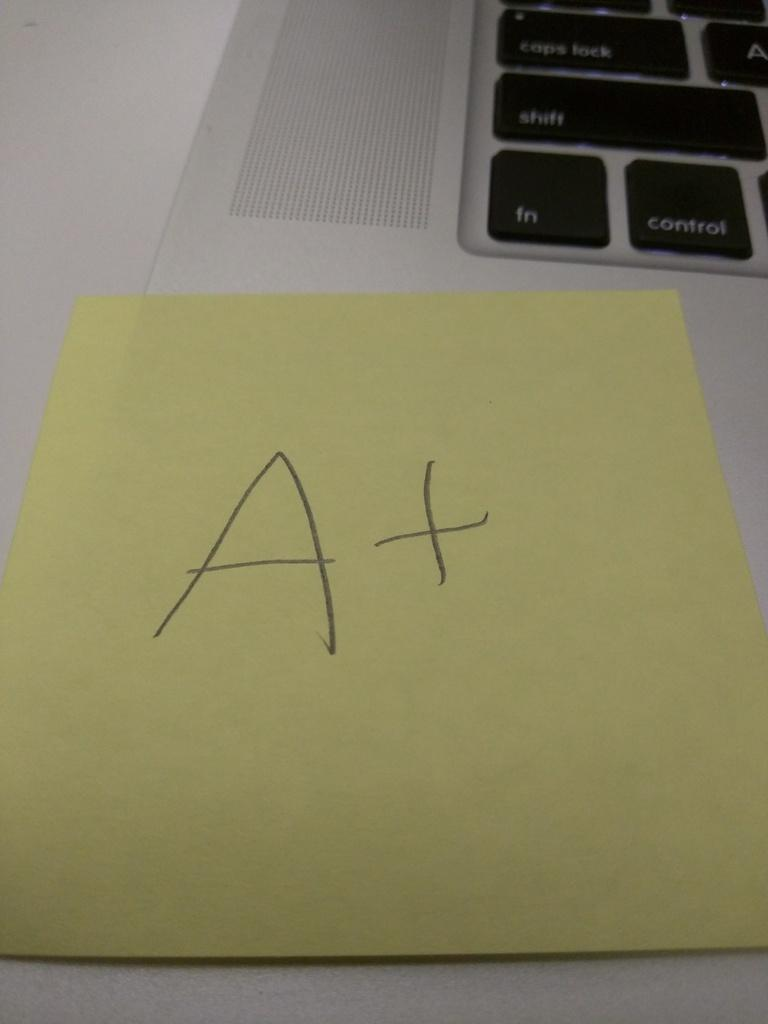Computer-keyboard: (483, 1, 767, 266)
